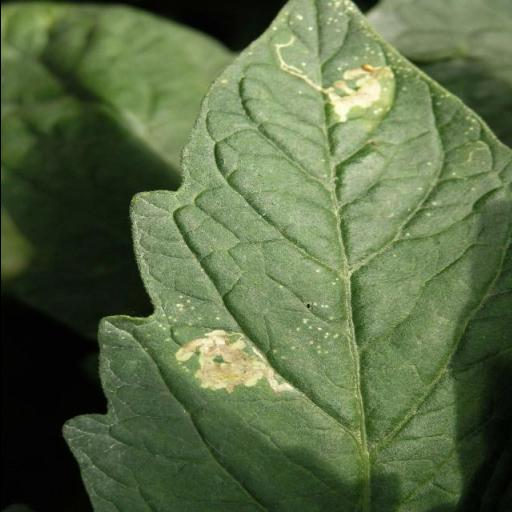disease_tomato: (66, 0, 512, 512)
